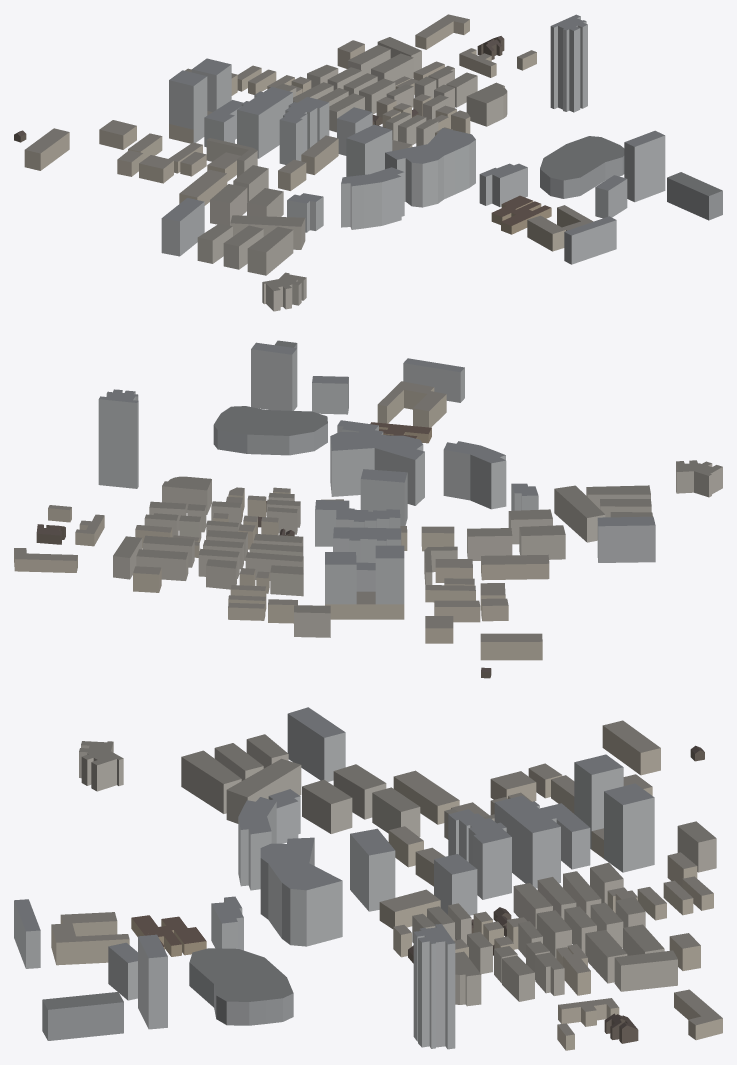
File: tile_6_5.glb
3 renders of one model, top to bottom at view 1: azimuth 30°, elevation 25°; view 2: azimuth 150°, elevation 25°; view 3: azimuth 270°, elevation 25°, orthographic. The views are drawn at different scales.
Visible parts, largest first — view 1: HP-w505633389, HP-w1117667171, HP-w505643611, HP-w505633388, HP-w505633412, HP-w859488905, HP-w505633410, HP-w505633415, HP-w505633381, HP-w505633391, HP-w859488904, HP-w859488896 (+38 smaller); view 2: HP-w1117667171, HP-w505633389, HP-w505643611, HP-w505633388, HP-w859488905, HP-w505633381, HP-w859488895, HP-w505633391, HP-w505633383, HP-w859488896, HP-w505633415, HP-w1286965188 (+39 smaller); view 3: HP-w505633389, HP-w1117667171, HP-w505643611, HP-w505633412, HP-w505633416, HP-w505633410, HP-w859488904, HP-w505633381, HP-w859488895, HP-w505633391, HP-w505633388, HP-w505633415 (+51 smaller).
Boxes of the visible parts, bbox=[...] form: HP-w505633389: bbox=[385, 128, 475, 207]; HP-w1117667171: bbox=[540, 136, 624, 198]; HP-w505643611: bbox=[550, 14, 587, 112]; HP-w505633388: bbox=[341, 167, 404, 229]; HP-w505633412: bbox=[237, 87, 292, 158]; HP-w859488905: bbox=[624, 130, 665, 202]; HP-w505633410: bbox=[279, 97, 329, 164]; HP-w505633415: bbox=[169, 70, 207, 142]; HP-w505633381: bbox=[161, 198, 204, 256]; HP-w505633391: bbox=[346, 124, 392, 176]; HP-w859488904: bbox=[667, 172, 722, 220]; HP-w859488896: bbox=[564, 216, 616, 264]; HP-w1117667171: bbox=[213, 406, 327, 455]; HP-w505633389: bbox=[330, 432, 424, 505]; HP-w505643611: bbox=[98, 389, 138, 488]; HP-w505633388: bbox=[443, 441, 506, 509]; HP-w859488905: bbox=[251, 342, 297, 410]; HP-w505633381: bbox=[597, 516, 655, 562]; HP-w859488895: bbox=[377, 381, 446, 427]; HP-w505633391: bbox=[360, 469, 407, 525]; HP-w505633383: bbox=[554, 485, 605, 542]; HP-w859488896: bbox=[403, 358, 464, 402]; HP-w505633415: bbox=[375, 545, 404, 604]; HP-w1286965188: bbox=[480, 633, 542, 660]; HP-w505633389: bbox=[260, 837, 342, 946]; HP-w1117667171: bbox=[189, 948, 293, 1025]; HP-w505643611: bbox=[413, 924, 455, 1049]; HP-w505633412: bbox=[494, 795, 560, 888]; HP-w505633416: bbox=[604, 783, 654, 872]; HP-w505633410: bbox=[448, 809, 511, 899]; HP-w859488904: bbox=[42, 992, 123, 1040]; HP-w505633381: bbox=[287, 707, 345, 781]; HP-w859488895: bbox=[51, 912, 129, 965]; HP-w505633391: bbox=[350, 828, 395, 911]; HP-w505633388: bbox=[238, 797, 276, 890]; HP-w505633415: bbox=[574, 754, 623, 849].
Bounding box in the file's own units: 528 × 84 × 514.
